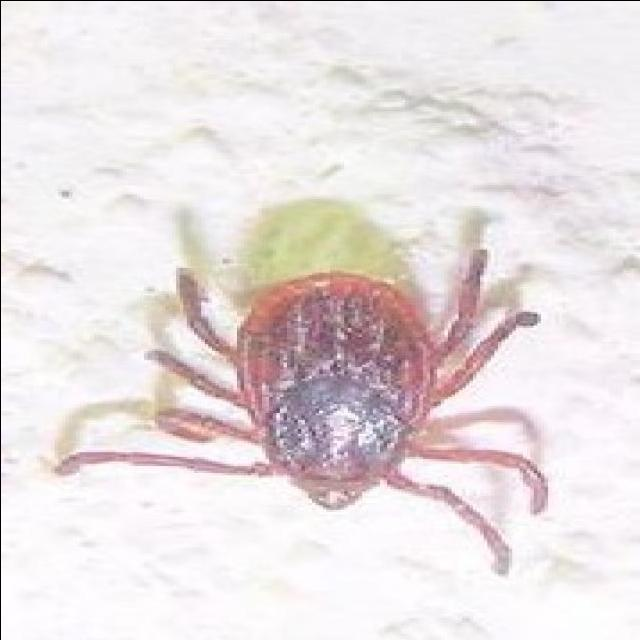Rhipicephalus Sanguineus-F: (54, 246, 551, 576)
